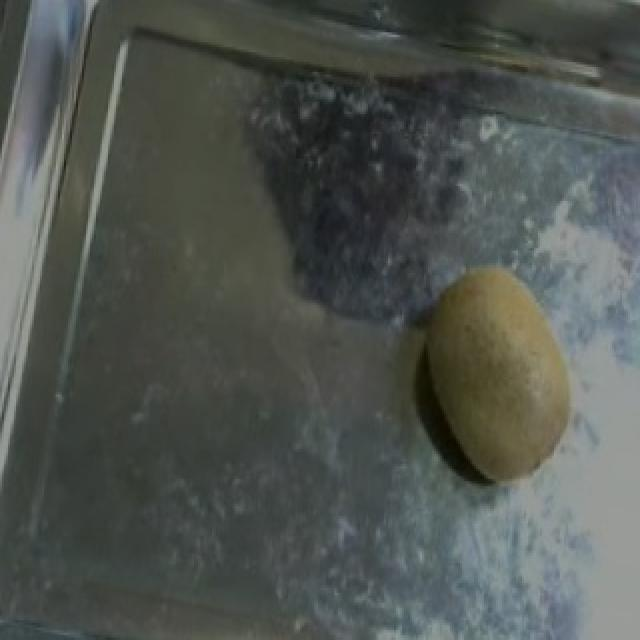Fruit: (394, 241, 598, 504)
